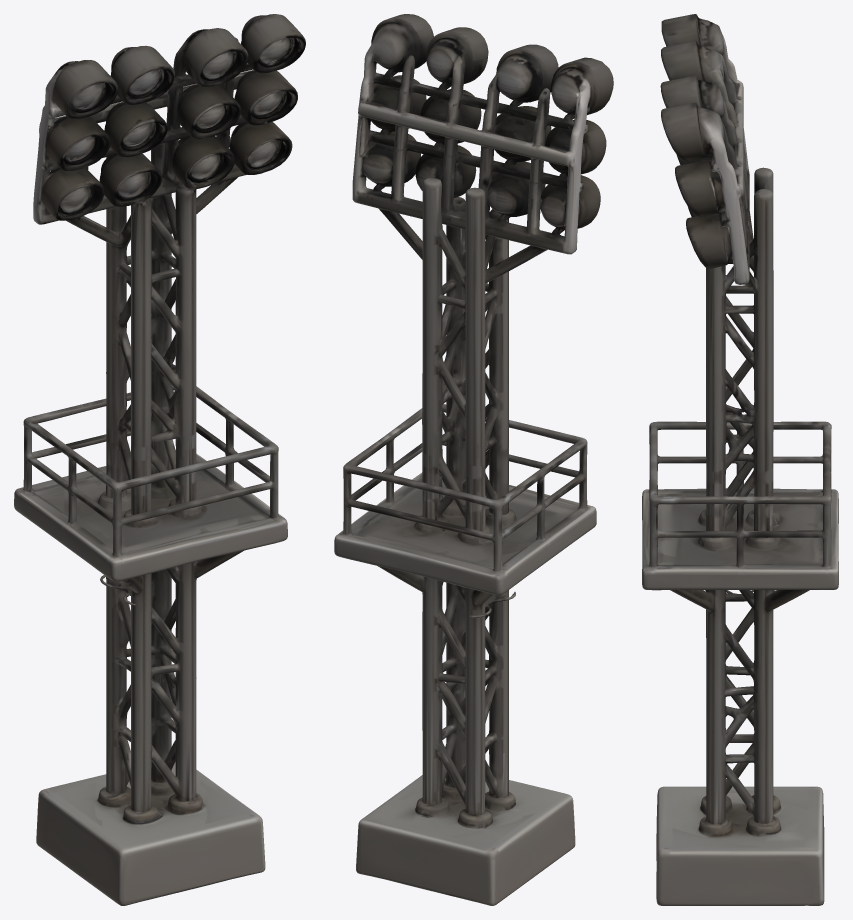
File: storm_coast_floodlight_camera_post_hunyuan.glb
The picture shows the model from 3 angles, left to right: view 1: azimuth 30°, elevation 25°; view 2: azimuth 150°, elevation 25°; view 3: azimuth 270°, elevation 25°; orthographic projection. The views are drawn at different scales.
Visible parts, largest first — view 1: node_0; view 2: node_0; view 3: node_0.
Part boxes in pixels (left/top/right/bottom): node_0: left=14, top=14, right=305, bottom=905; node_0: left=334, top=14, right=613, bottom=905; node_0: left=642, top=14, right=838, bottom=905.
Bounding box in the file's own units: 0.3466 × 1.16 × 0.2553.
Materials: 1 (1 with a texture image).
